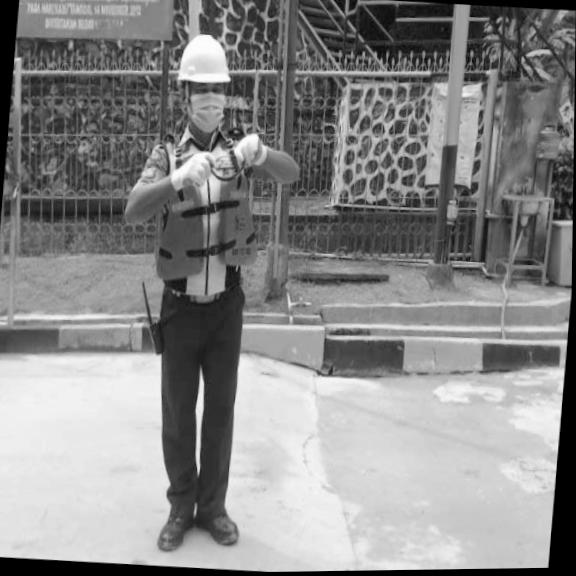safety_vest: (151, 168, 269, 289)
